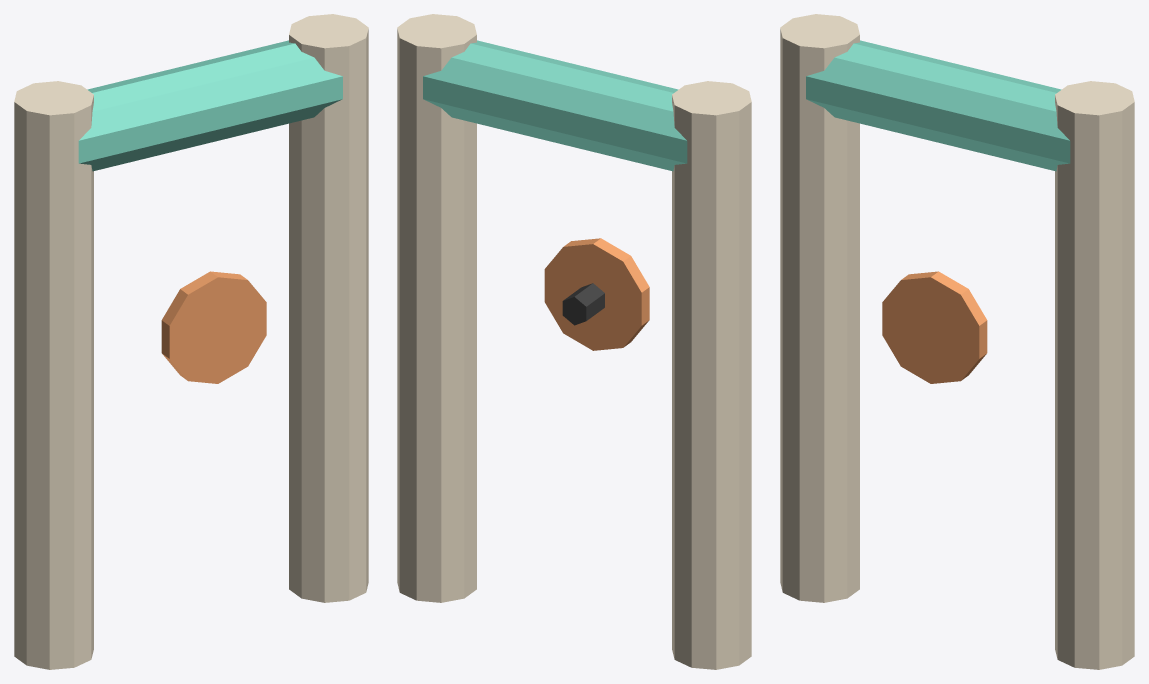
3 renders of one model, left to right at view 1: azimuth 30°, elevation 25°; view 2: azimuth 150°, elevation 25°; view 3: azimuth 330°, elevation 25°, orthographic.
Visible parts, largest first — view 1: Pipe, Pipe.001, Cross pipe, Valve; view 2: Pipe, Pipe.001, Cross pipe, Valve, Valve stem; view 3: Pipe.001, Pipe, Cross pipe, Valve.
Boxes of the visible parts, x1,y1,x2,y2 form: Pipe: (14, 81, 93, 669); Pipe.001: (289, 14, 368, 602); Cross pipe: (78, 40, 342, 171); Valve: (161, 271, 266, 383); Pipe: (672, 81, 751, 669); Pipe.001: (397, 14, 476, 602); Cross pipe: (423, 40, 687, 171); Valve: (544, 238, 649, 350); Valve stem: (562, 283, 604, 325); Pipe.001: (1055, 81, 1134, 669); Pipe: (780, 14, 859, 602); Cross pipe: (806, 40, 1070, 171); Valve: (882, 271, 987, 383).
Size of the model in its own units: 0.8712 by 1.35 by 0.2075.
Materials: 1 (1 with a texture image).
